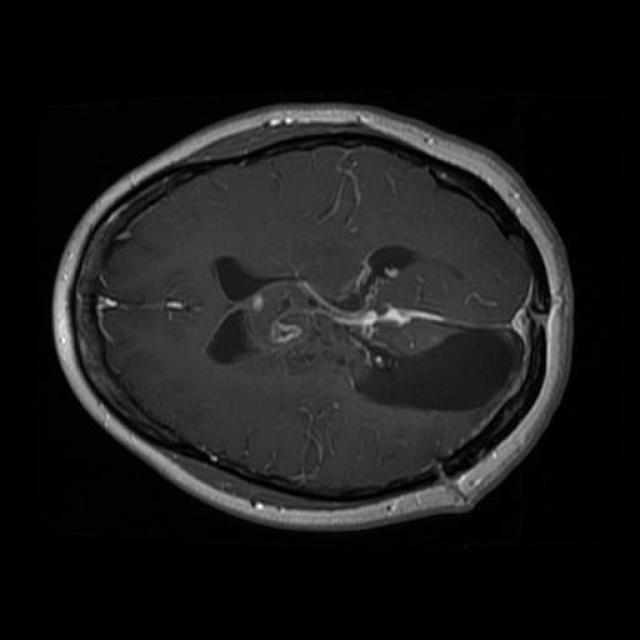Glioma: (207, 248, 528, 410)
